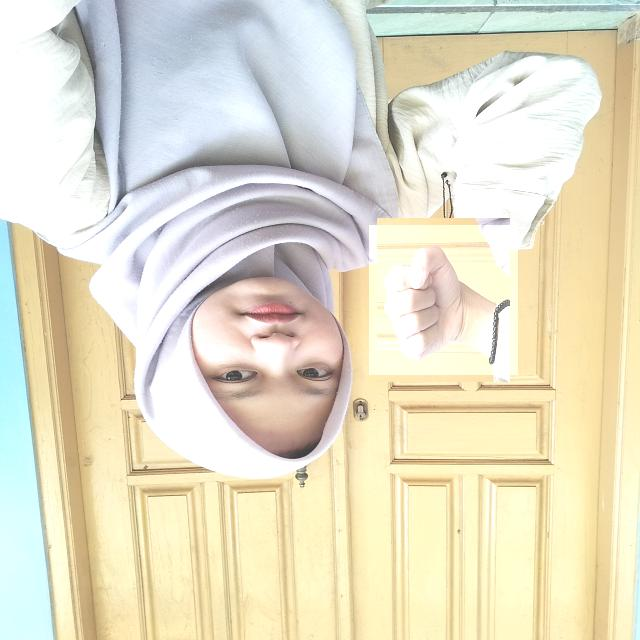baik: (369, 225, 518, 375)
